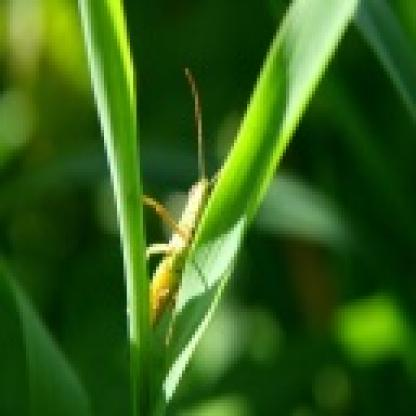grasshopper: (142, 80, 223, 344)
